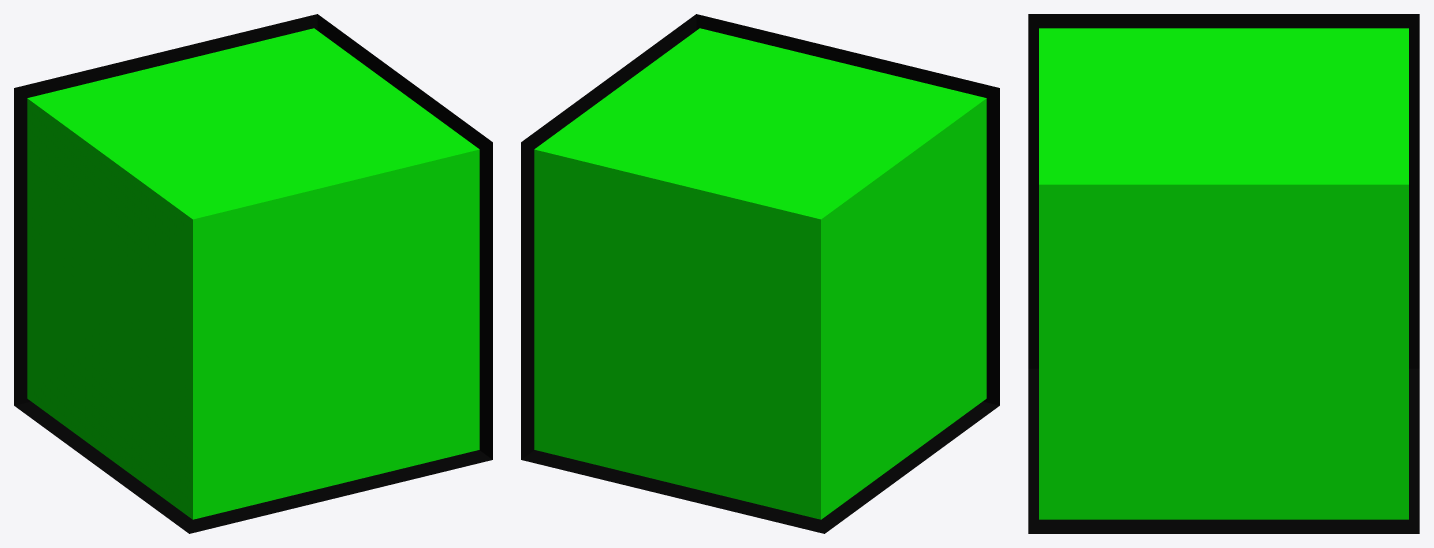
Rendered from box_green.FBX.
3 views of the same model, side by side, from view 1: azimuth 30°, elevation 25°; view 2: azimuth 150°, elevation 25°; view 3: azimuth 270°, elevation 25° (orthographic). The views are drawn at different scales.
Parts seen in each view (by area): view 1: Box01, Box02; view 2: Box01, Box02; view 3: Box01, Box02.
Part boxes in pixels (left/top/right/bottom): Box01: left=27, top=28, right=479, bottom=519; Box02: left=14, top=14, right=492, bottom=533; Box01: left=534, top=28, right=986, bottom=519; Box02: left=521, top=14, right=999, bottom=533; Box01: left=1039, top=28, right=1408, bottom=519; Box02: left=1028, top=14, right=1419, bottom=533.
Size of the model in its own units: 41.64 by 41.64 by 41.64.
